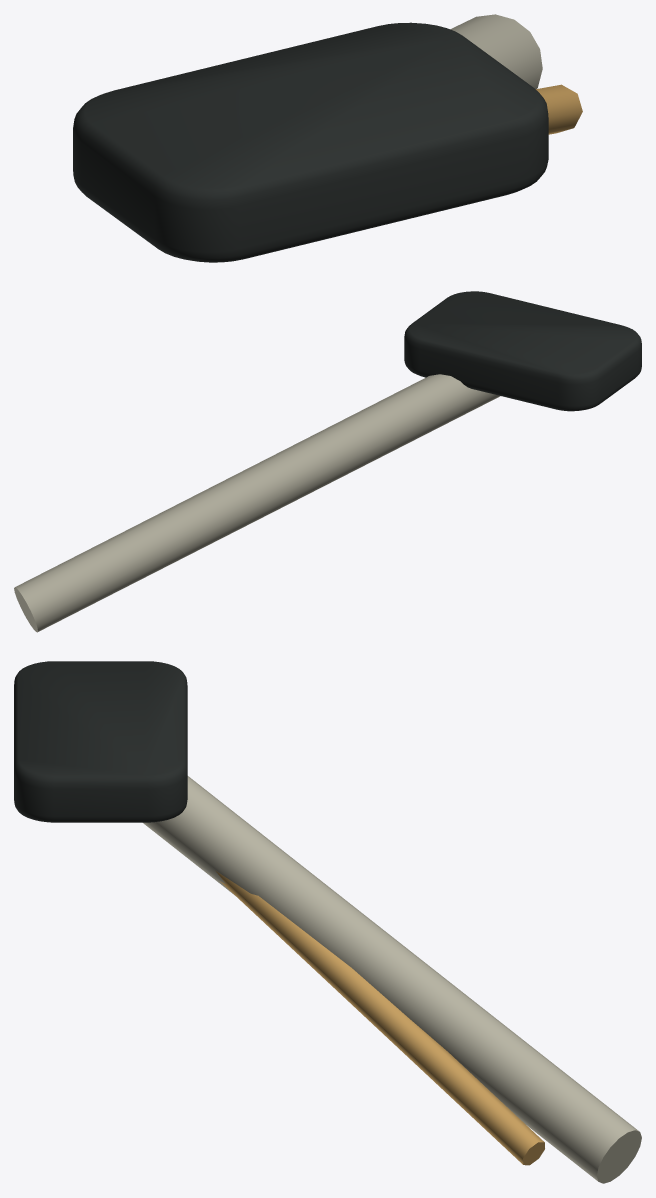
File: Executive.glb
3 views of the same model, one above another, from view 1: azimuth 30°, elevation 25°; view 2: azimuth 150°, elevation 25°; view 3: azimuth 270°, elevation 25° (orthographic). The views are drawn at different scales.
Visible parts, largest first — view 1: Palm pad, Return arm, Counter lever; view 2: Return arm, Palm pad; view 3: Return arm, Palm pad, Counter lever.
Part boxes in pixels (bbox=[...]): Palm pad: bbox=[73, 22, 548, 262]; Return arm: bbox=[450, 14, 542, 89]; Counter lever: bbox=[536, 84, 582, 134]; Return arm: bbox=[14, 374, 500, 632]; Palm pad: bbox=[404, 291, 641, 411]; Return arm: bbox=[143, 776, 641, 1183]; Palm pad: bbox=[14, 661, 187, 822]; Counter lever: bbox=[215, 870, 544, 1165].
Bounding box in the file's own units: 0.8464 × 0.44 × 0.884.
